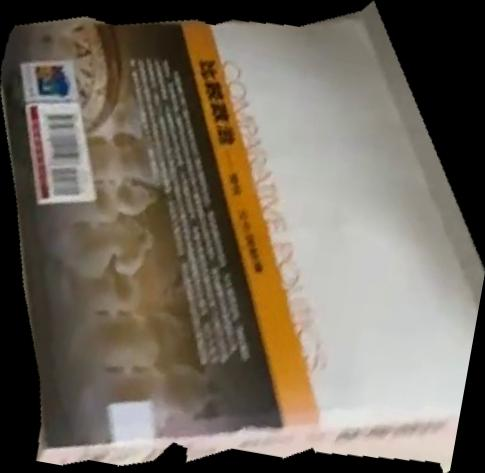flat: (1, 1, 485, 473)
